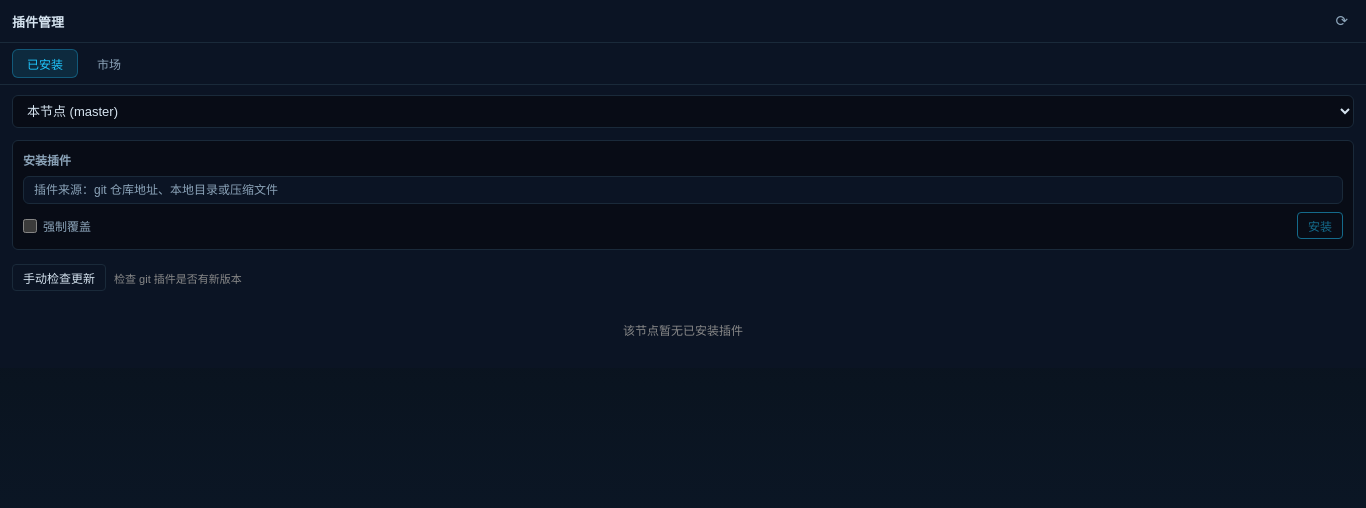
PluginSidebar › 市场 tab：无版本信息时显示占位符 -
Click the button "市场".
click(109, 64)  # box [82,49,136,78]
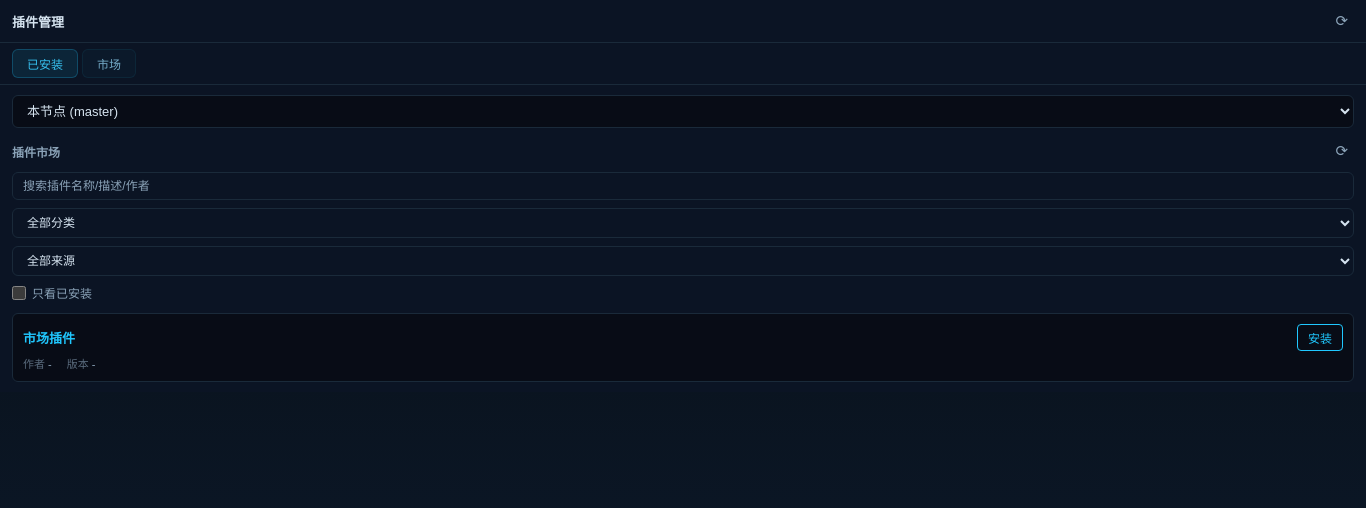
Check: the element showing "市场插件 安装 作者 - 版本 -" is shown, box [12,313,1354,382]
